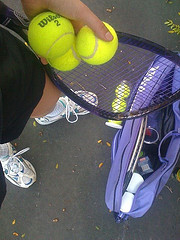tennis ball: (26, 11, 76, 59), (76, 21, 118, 65), (46, 43, 80, 70), (114, 83, 131, 98), (111, 98, 126, 112)
